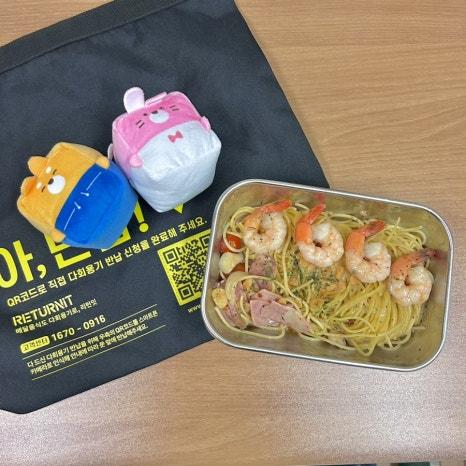Lunch Box: (201, 180, 452, 370)
